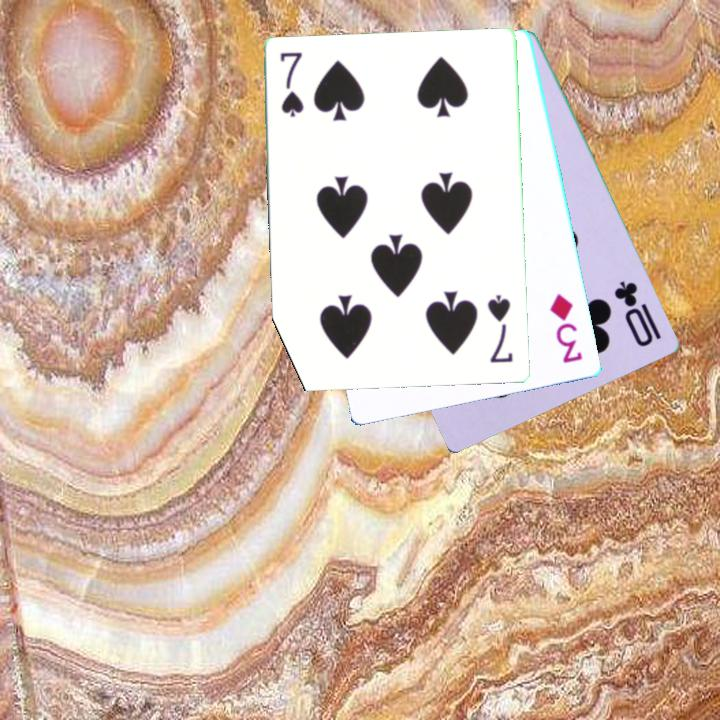10c: (611, 277, 665, 350)
3d: (546, 290, 586, 367)
7s: (484, 291, 516, 366), (277, 49, 307, 121)
